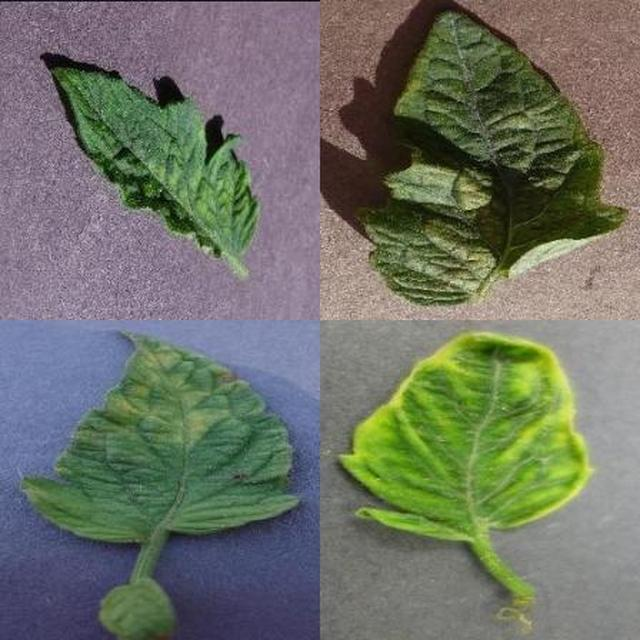Mosaic Virus Leaf: (221, 227, 640, 627)
